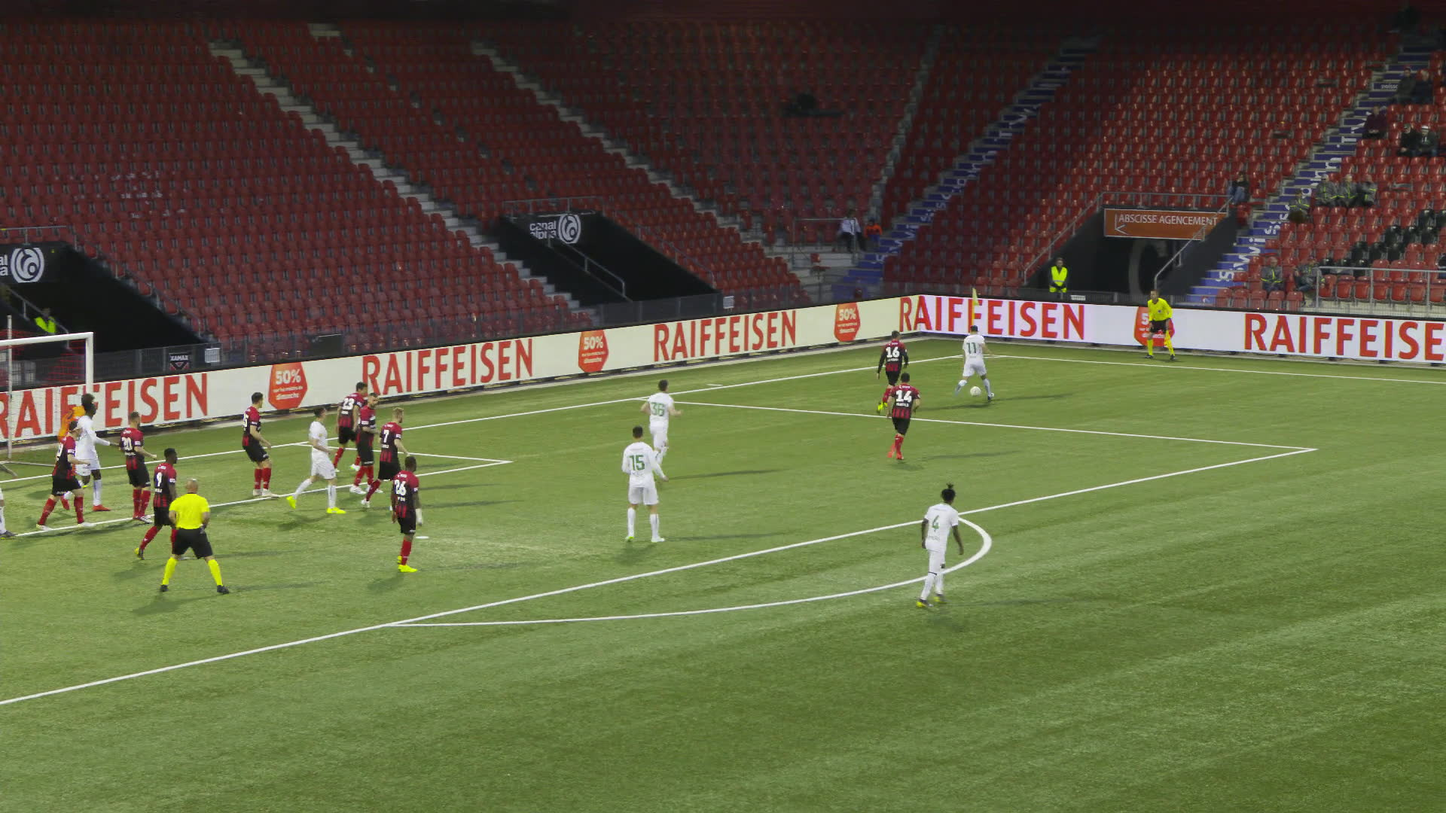ball: (970, 385, 980, 395)
player: (63, 397, 119, 510), (137, 447, 192, 561), (289, 403, 345, 513), (40, 419, 94, 530), (914, 483, 960, 608), (620, 426, 668, 543), (382, 457, 428, 571), (362, 407, 412, 509), (118, 410, 157, 520), (638, 382, 679, 480), (330, 381, 371, 473), (242, 390, 276, 498), (59, 393, 96, 488), (951, 325, 994, 404), (883, 373, 920, 464), (352, 392, 383, 493), (874, 333, 907, 414)
referee: (163, 476, 227, 591), (1142, 288, 1177, 361)
